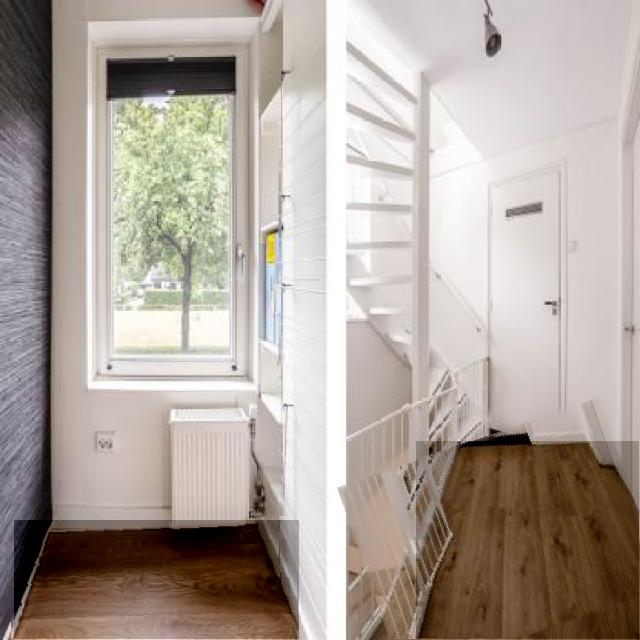floor: (416, 442, 640, 639), (15, 521, 299, 639)
